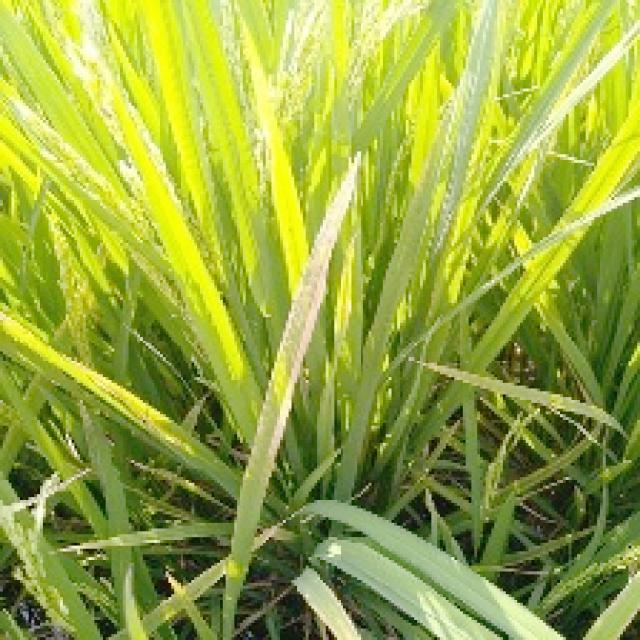unhealth: (227, 158, 356, 640)
